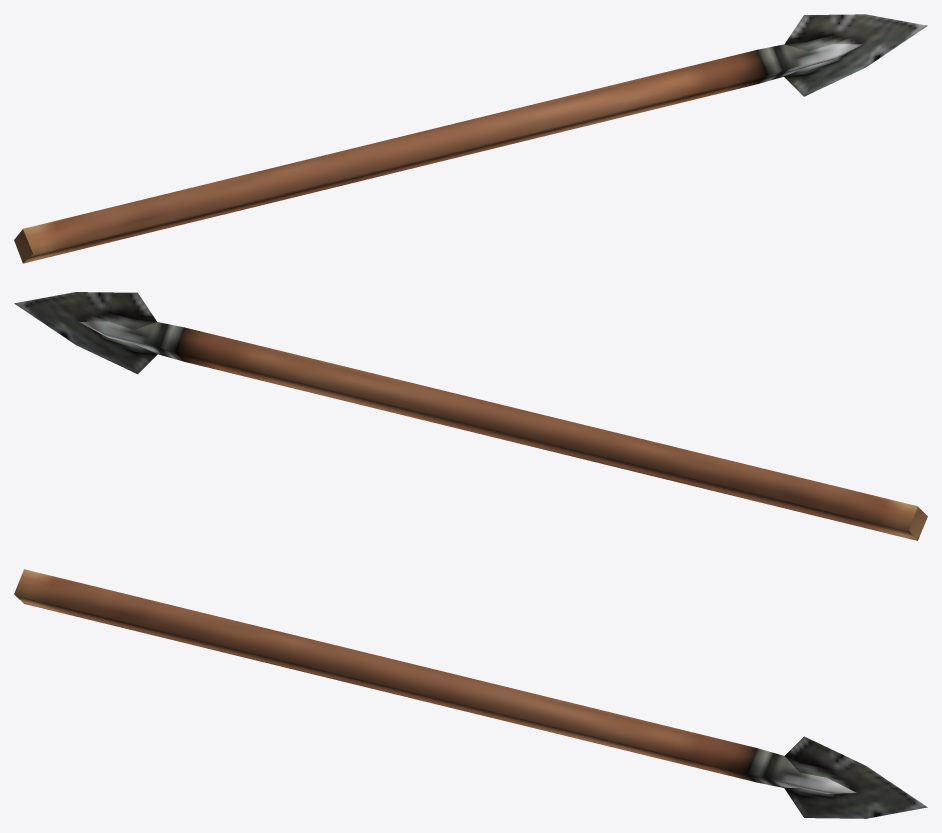
Rendered from UD_weapon_Spear.FBX.glb.
3 views of the same model, one above another, from view 1: azimuth 30°, elevation 25°; view 2: azimuth 150°, elevation 25°; view 3: azimuth 330°, elevation 25° (orthographic).
Parts seen in each view (by area): view 1: UD_weapon_Spear; view 2: UD_weapon_Spear; view 3: UD_weapon_Spear.
Part boxes in pixels (x1=…): UD_weapon_Spear: x1=14, y1=14, x2=927, y2=263; UD_weapon_Spear: x1=14, y1=292, x2=927, y2=540; UD_weapon_Spear: x1=14, y1=569, x2=927, y2=818.
Size of the model in its own units: 63969 by 5521 by 2335.
1 material, 1 textured.
